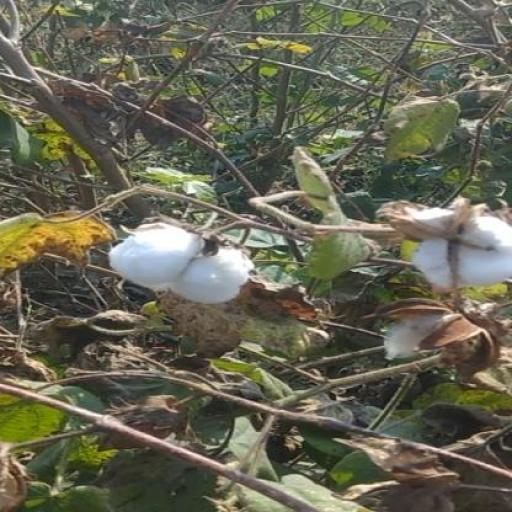cotton_ready: (46, 202, 280, 320)
